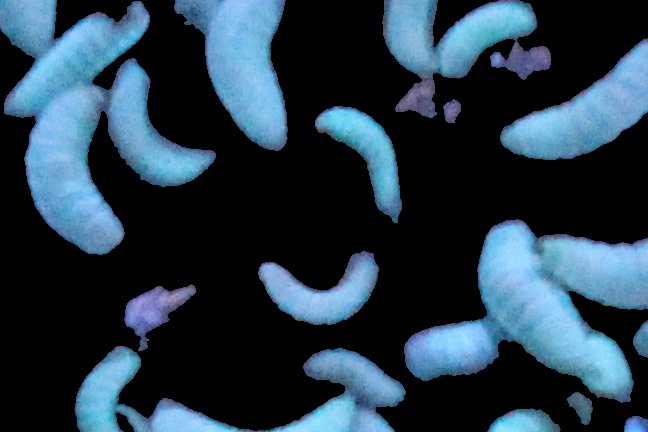larvae: (478, 220, 627, 405), (500, 40, 648, 161), (19, 89, 129, 250), (4, 1, 146, 117), (206, 1, 293, 149), (109, 55, 207, 184), (317, 110, 405, 223), (257, 251, 381, 325), (537, 228, 648, 310), (436, 2, 540, 84), (302, 346, 412, 406), (69, 343, 142, 432), (407, 324, 516, 382), (387, 1, 446, 78)
